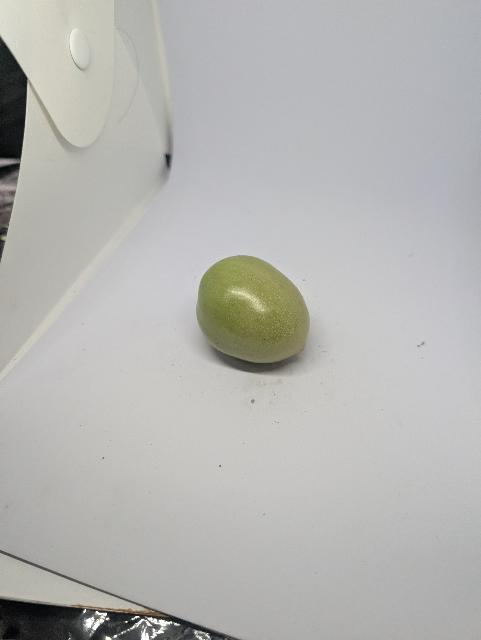green: (196, 253, 311, 366)
